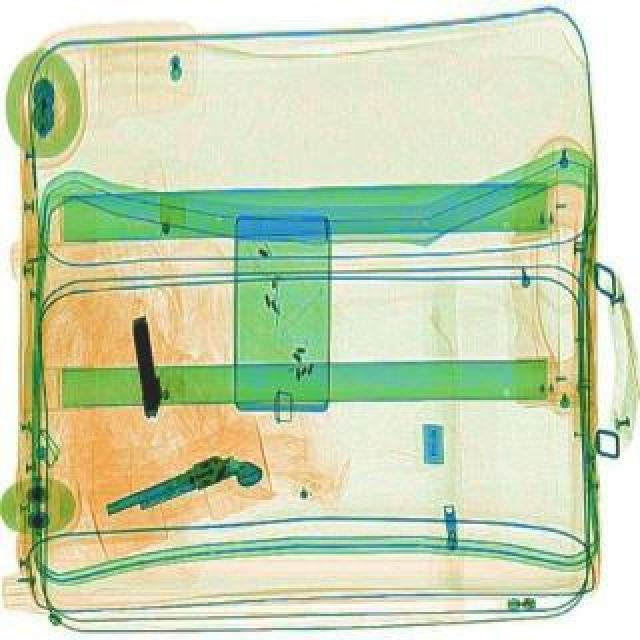gun: (98, 438, 266, 538), (126, 316, 166, 418)
